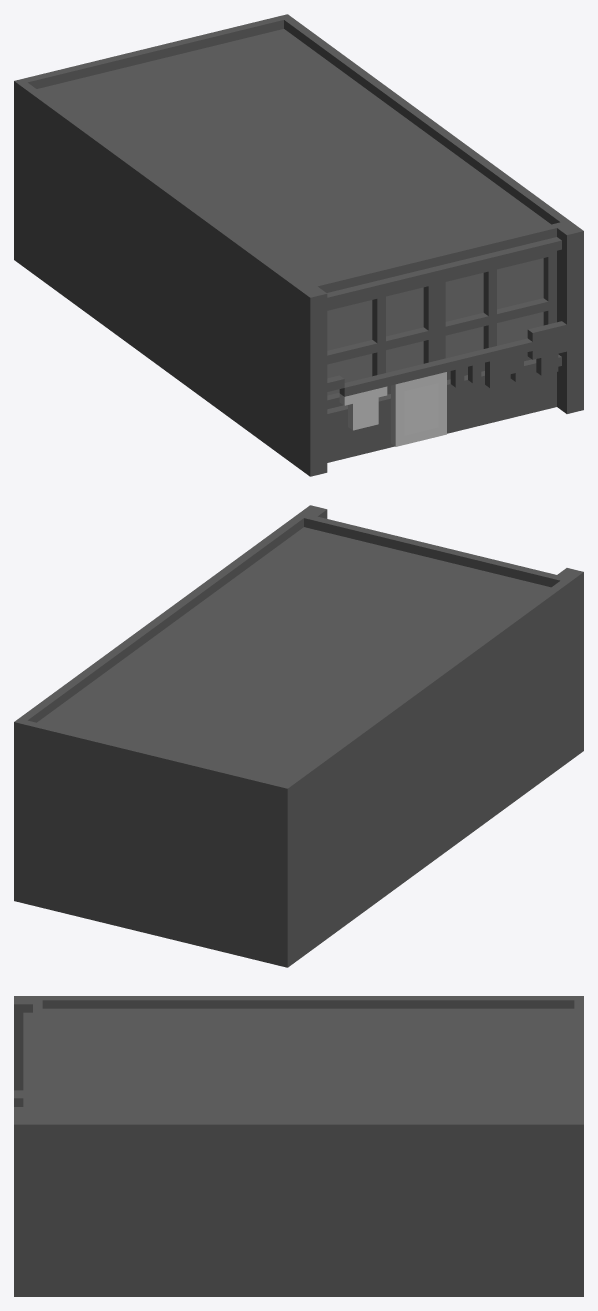
File: bld_story01b.obj
3 views of the same model, one above another, from view 1: azimuth 30°, elevation 25°; view 2: azimuth 150°, elevation 25°; view 3: azimuth 270°, elevation 25° (orthographic). The views are drawn at different scales.
Bounding box in the file's own units: 32 × 20 × 60.
